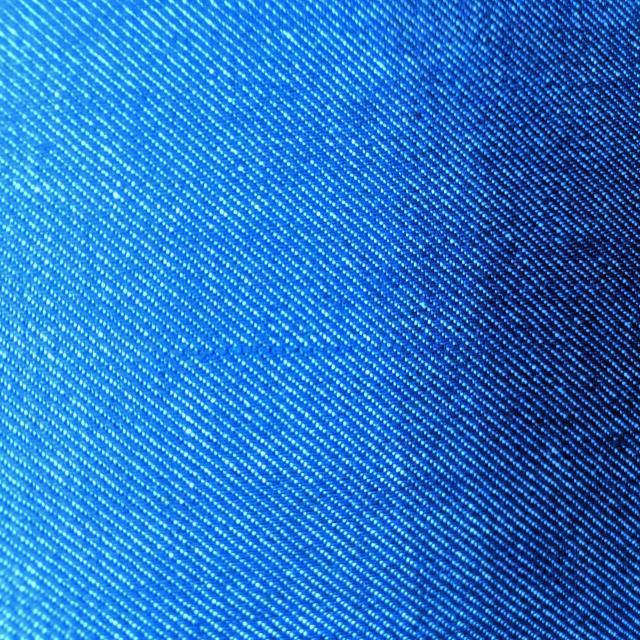Line: (155, 334, 478, 364)
